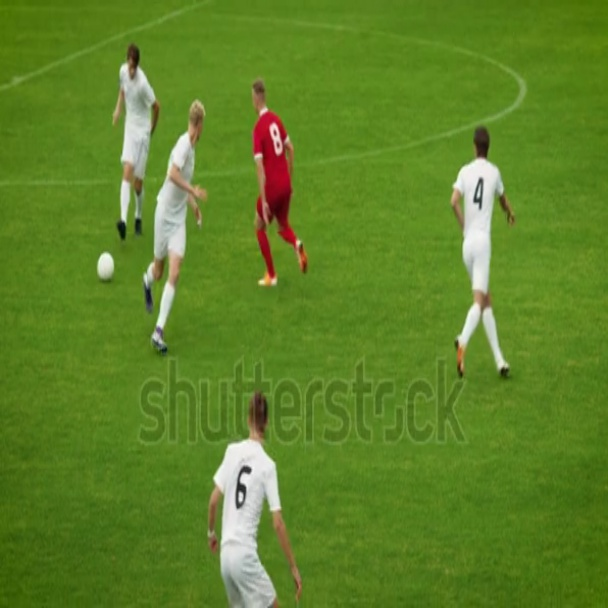ball: (98, 251, 115, 280)
